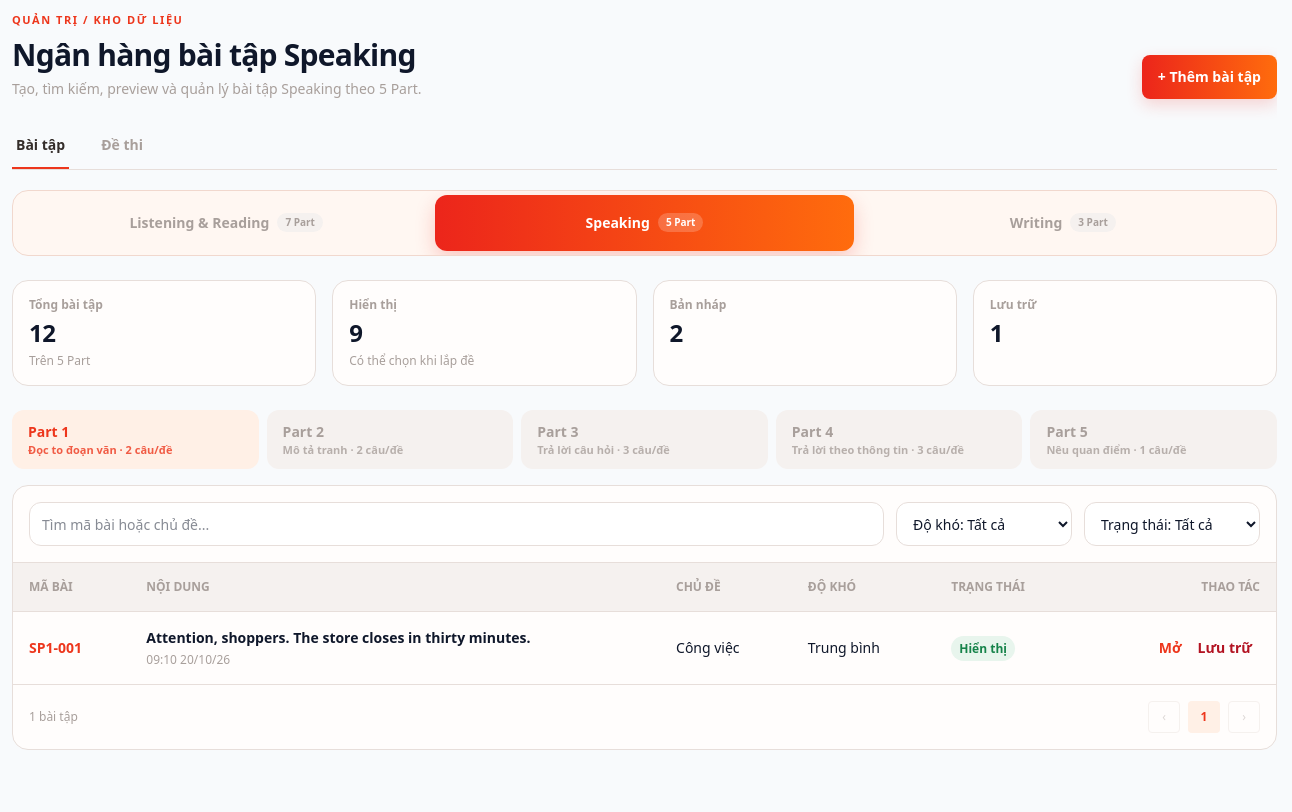
Test case: AdminSpeakingContentPage › loads exercises per Part with server-side filters
The width and height of the screenshot is (1292, 812).
Expected: the text "SP1-001" is shown, top-left (13, 612), bottom-right (130, 684)
Expected: the text "9" is shown, top-left (349, 316), bottom-right (362, 348)
Click the button "Part 4 Trả lời theo thông tin · 3 câu/đề". click: (899, 439)
box: top-left (776, 410), bottom-right (1022, 469)
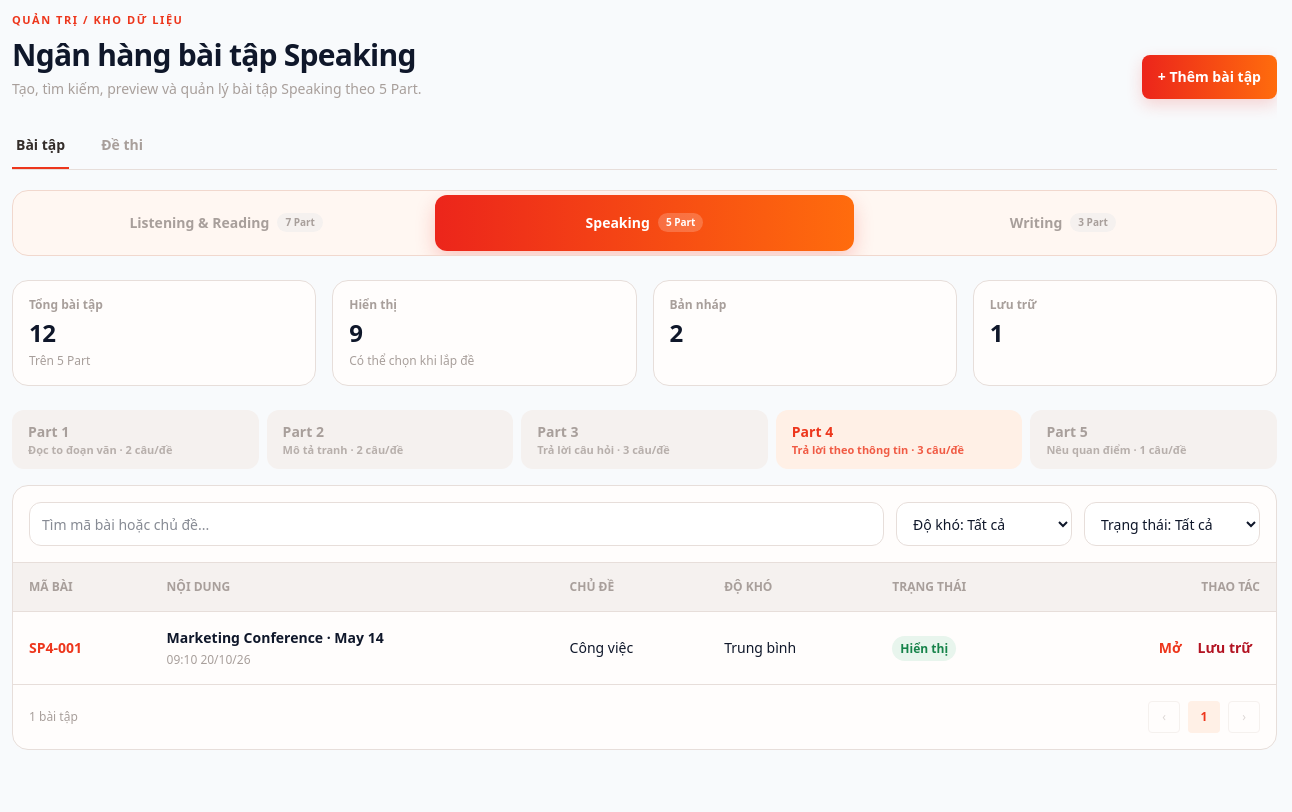
Expected: the text "SP4-001" is shown, top-left (13, 612), bottom-right (151, 684)
